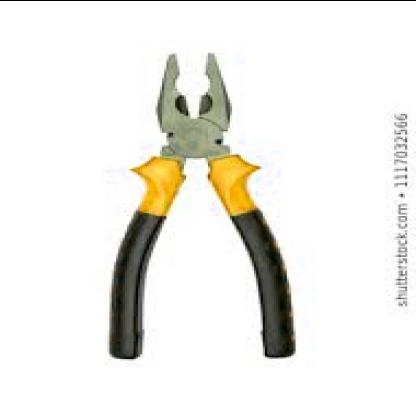Pliers: (98, 48, 302, 364)
